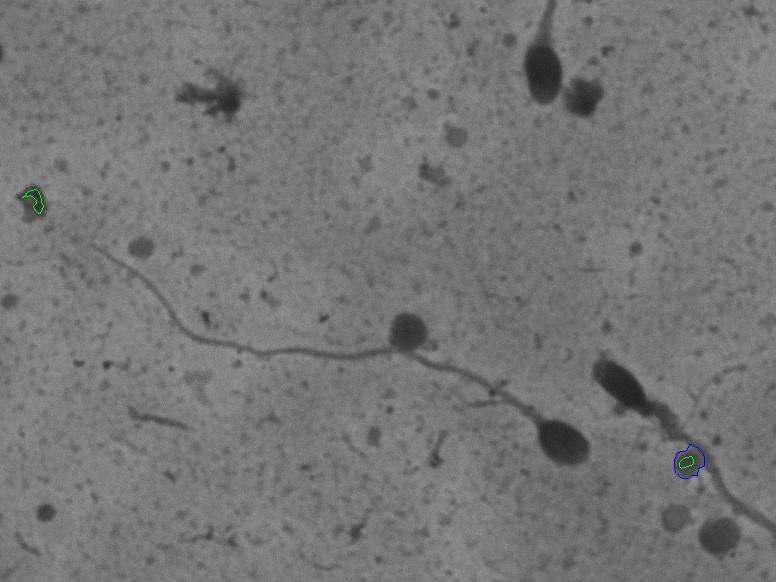Abnormal: (572, 339, 753, 469)
Normal: (71, 231, 608, 480)
